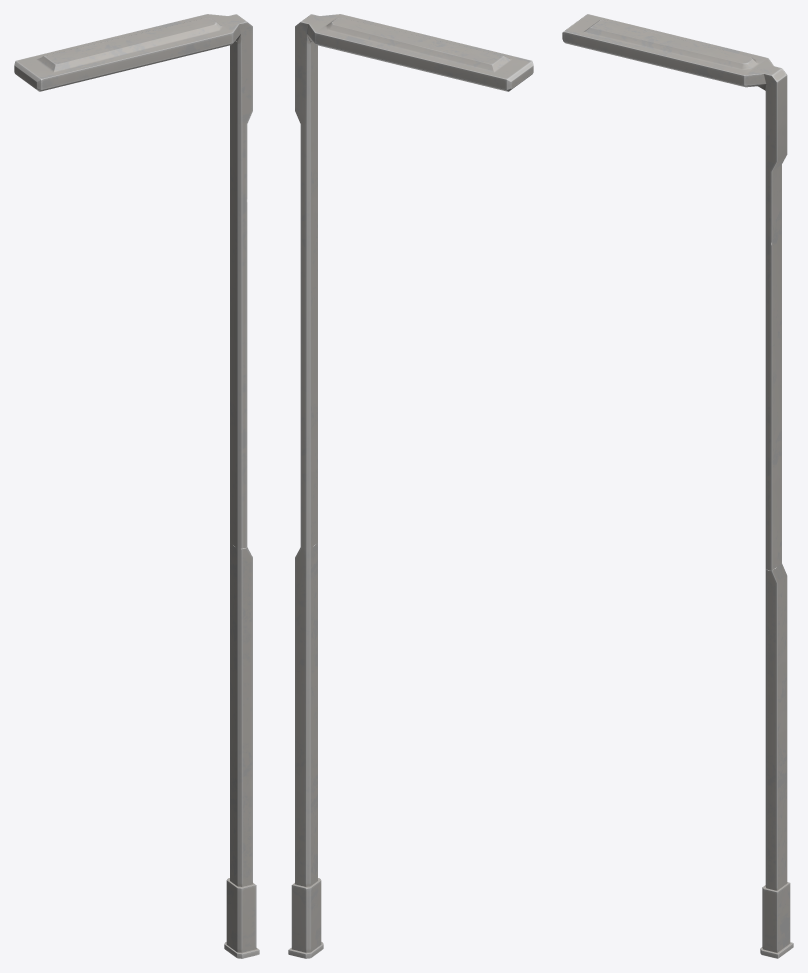
Rendered from SM_Lamppost_01.fbx.
3 renders of one model, left to right at view 1: azimuth 30°, elevation 25°; view 2: azimuth 150°, elevation 25°; view 3: azimuth 330°, elevation 25°, orthographic. The views are drawn at different scales.
Parts seen in each view (by area): view 1: SM_Lamppost_01; view 2: SM_Lamppost_01; view 3: SM_Lamppost_01.
Part boxes in pixels (x1,y1,x2,y2): SM_Lamppost_01: (14,14,259,958); SM_Lamppost_01: (288,14,533,958); SM_Lamppost_01: (562,14,793,958).
Size of the model in its own units: 202 by 40 by 800.
Materials: 1 (1 with a texture image).
